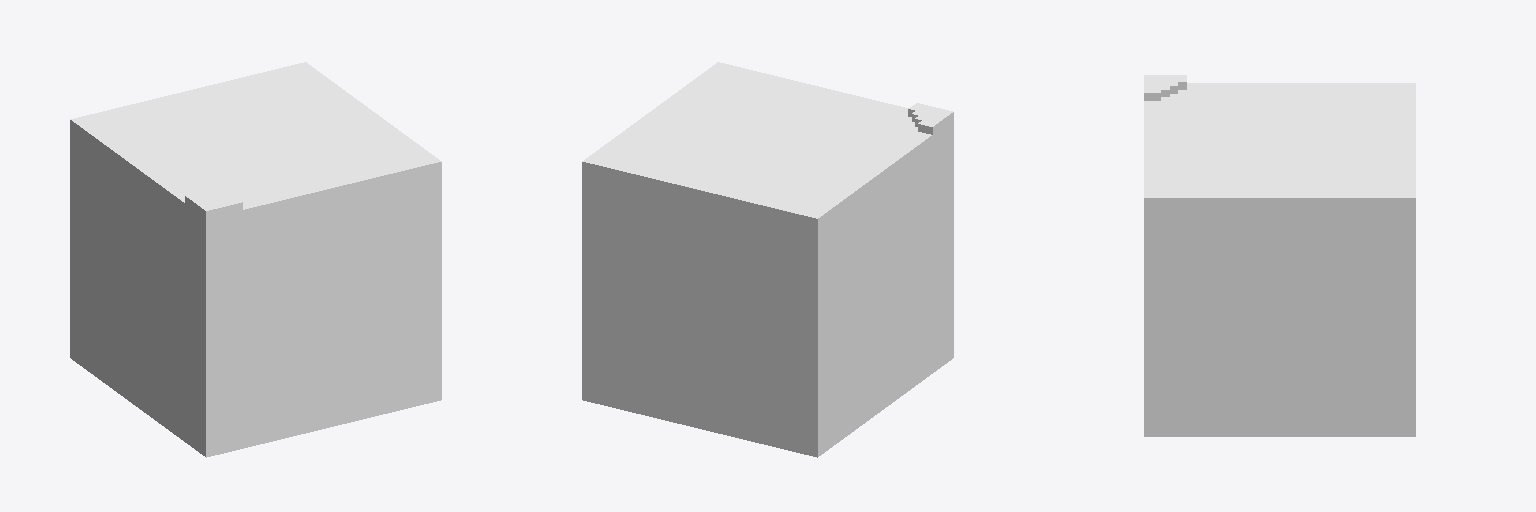
The model's file is Road_Side_Corner.obj.
3 views of the same model, side by side, from view 1: azimuth 30°, elevation 25°; view 2: azimuth 150°, elevation 25°; view 3: azimuth 270°, elevation 25° (orthographic).
Parts seen in each view (by area): view 1: object 1; view 2: object 1; view 3: object 1.
Boxes of the visible parts, x1=… form: object 1: x1=70, y1=62, x2=441, y2=457; object 1: x1=582, y1=62, x2=953, y2=457; object 1: x1=1144, y1=75, x2=1415, y2=436.
Size of the model in its own units: 3.2 by 3.2 by 3.2.